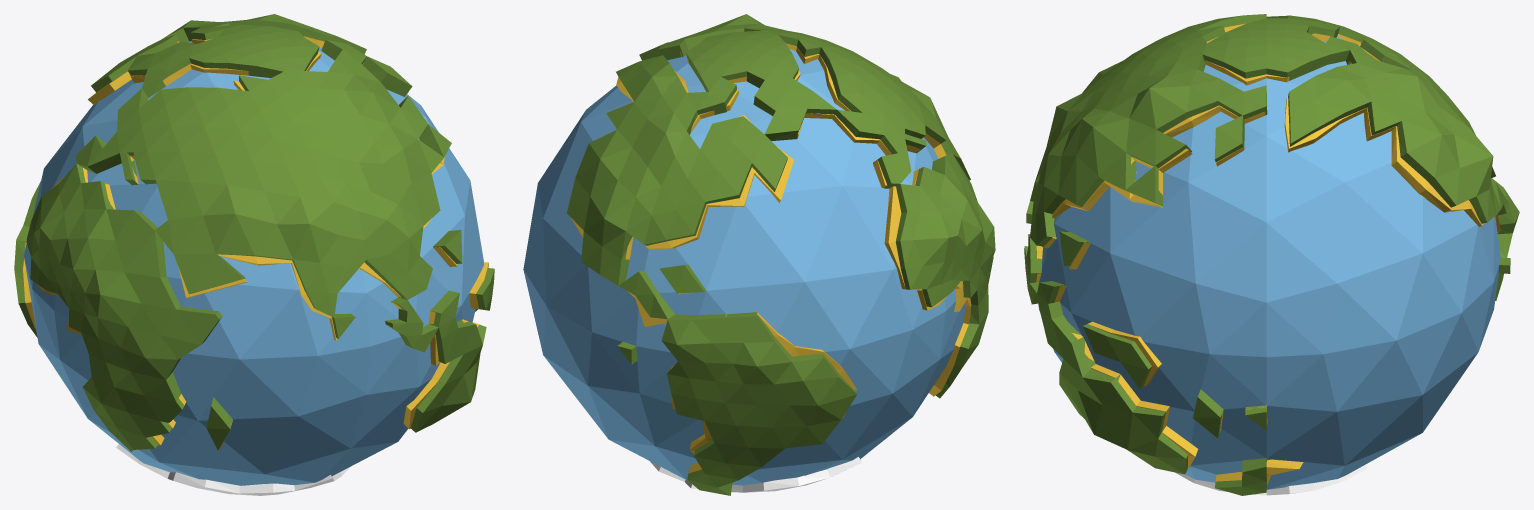
Rendered from Earth.obj.
3 renders of one model, left to right at view 1: azimuth 30°, elevation 25°; view 2: azimuth 150°, elevation 25°; view 3: azimuth 270°, elevation 25°, orthographic. The views are drawn at different scales.
Parts seen in each view (by area): view 1: Earth; view 2: Earth; view 3: Earth.
Part boxes in pixels (<box>): Earth: <box>14,14,494,495</box>; Earth: <box>523,14,995,495</box>; Earth: <box>1024,14,1519,495</box>.
Bounding box in the file's own units: 52.94 × 52.98 × 54.43.
1 material, 1 textured.
